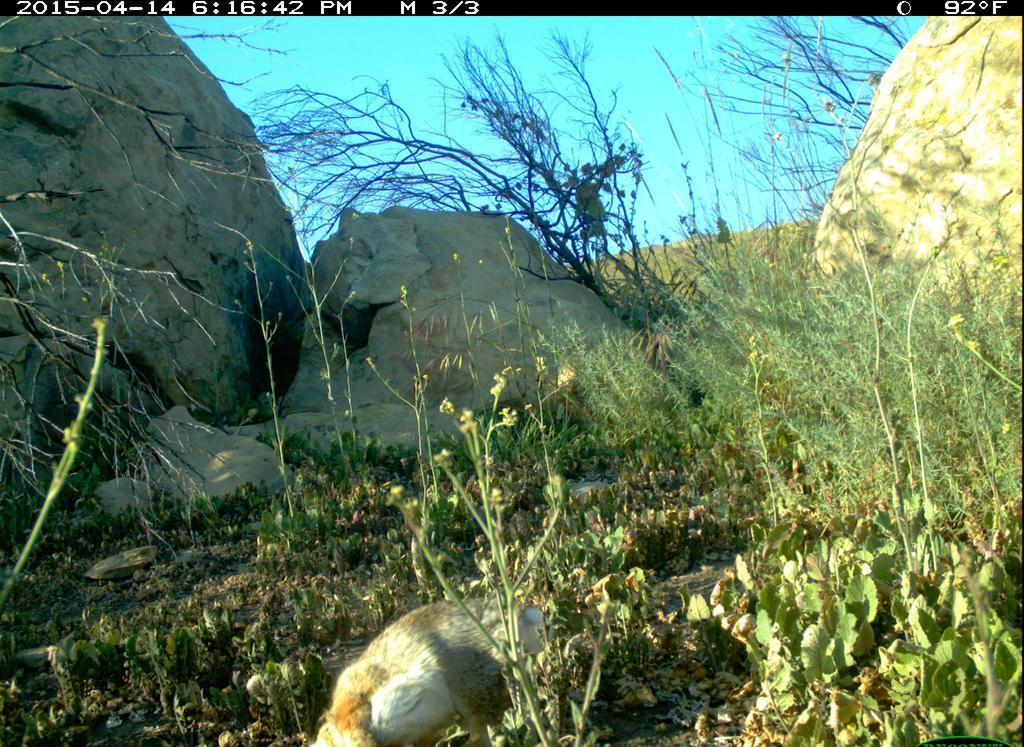rabbit: (308, 520, 582, 747)
